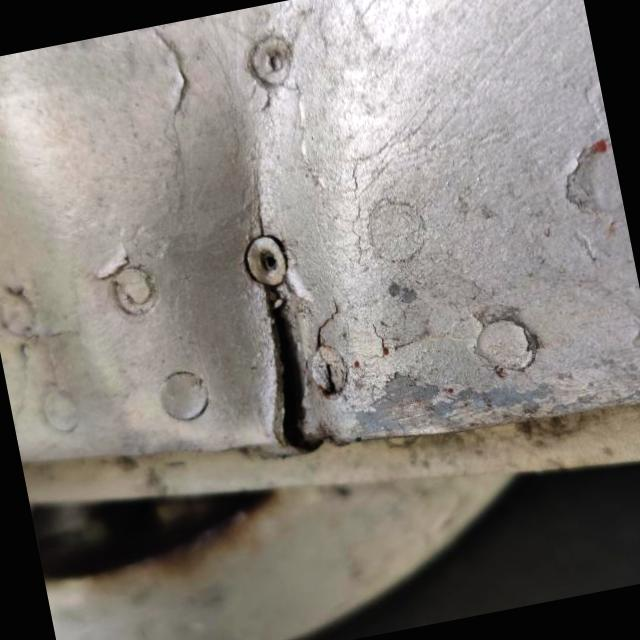crack: (206, 249, 370, 480)
